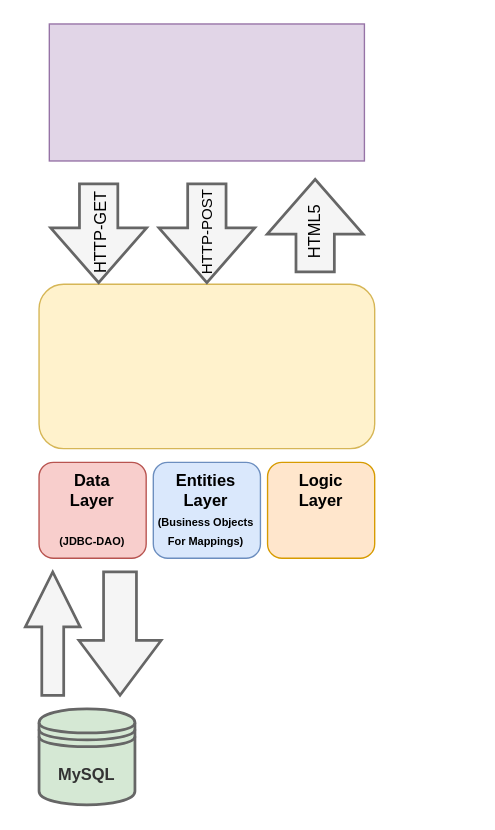
Image size: 495x830. Some labels were removed from this diagram. The centre of each missing label's shape, as x and y in pixels:
JSP View (Server-Rendered): [206,92]
SELECT - INSERT - MODIFY - DELETE: [119,633]
Servlets (controllers): [206,366]
TABLES: [52,633]
